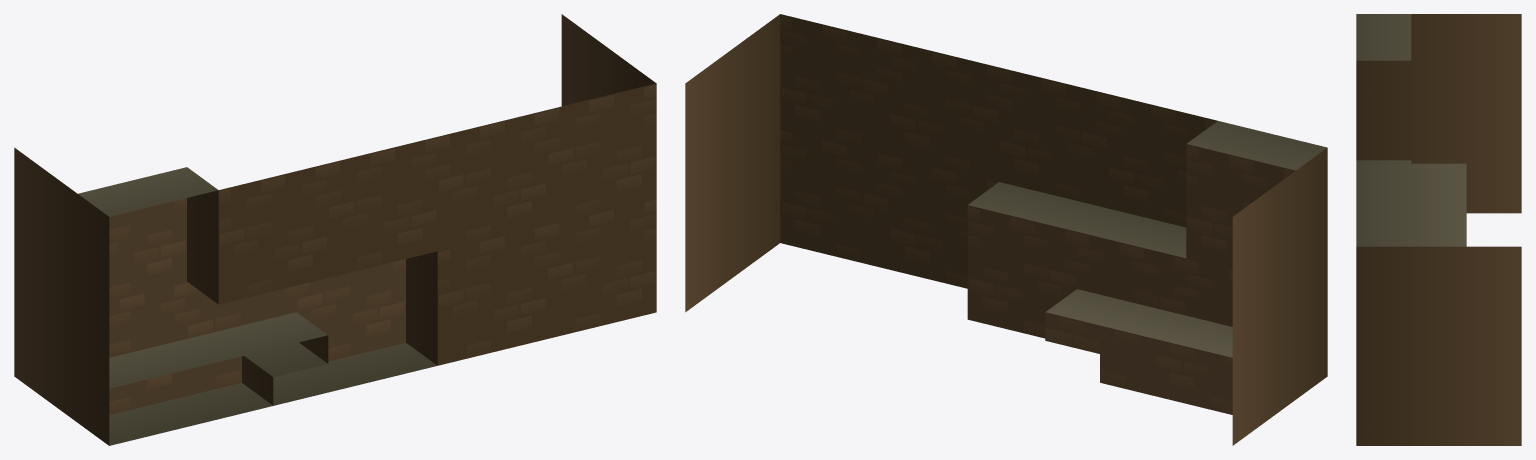
File: SM_Room1_2_8x20.fbx
The picture shows the model from 3 angles, left to right: view 1: azimuth 30°, elevation 25°; view 2: azimuth 150°, elevation 25°; view 3: azimuth 270°, elevation 25°; orthographic projection. The views are drawn at different scales.
Parts seen in each view (by area): view 1: SM_Room1_2_8x20; view 2: SM_Room1_2_8x20; view 3: SM_Room1_2_8x20.
Part boxes in pixels (bbox=[...]): SM_Room1_2_8x20: bbox=[14, 14, 656, 445]; SM_Room1_2_8x20: bbox=[685, 14, 1327, 445]; SM_Room1_2_8x20: bbox=[1356, 14, 1521, 445].
Size of the model in its own units: 2000 by 600 by 800.
